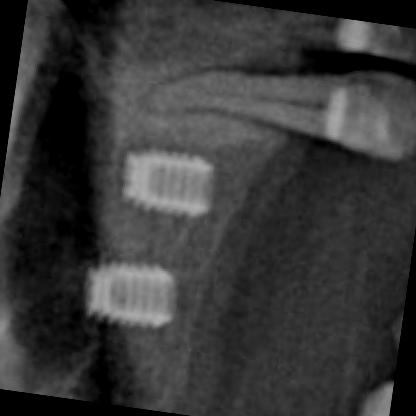Bicon: (38, 235, 195, 343), (82, 124, 237, 233)
